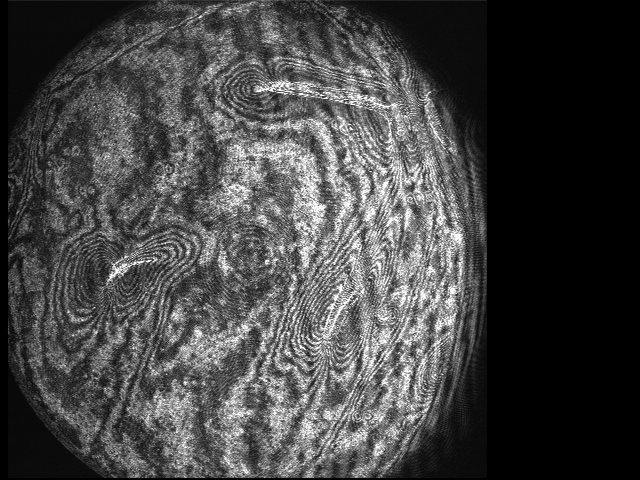plume: (56, 233, 201, 322)
